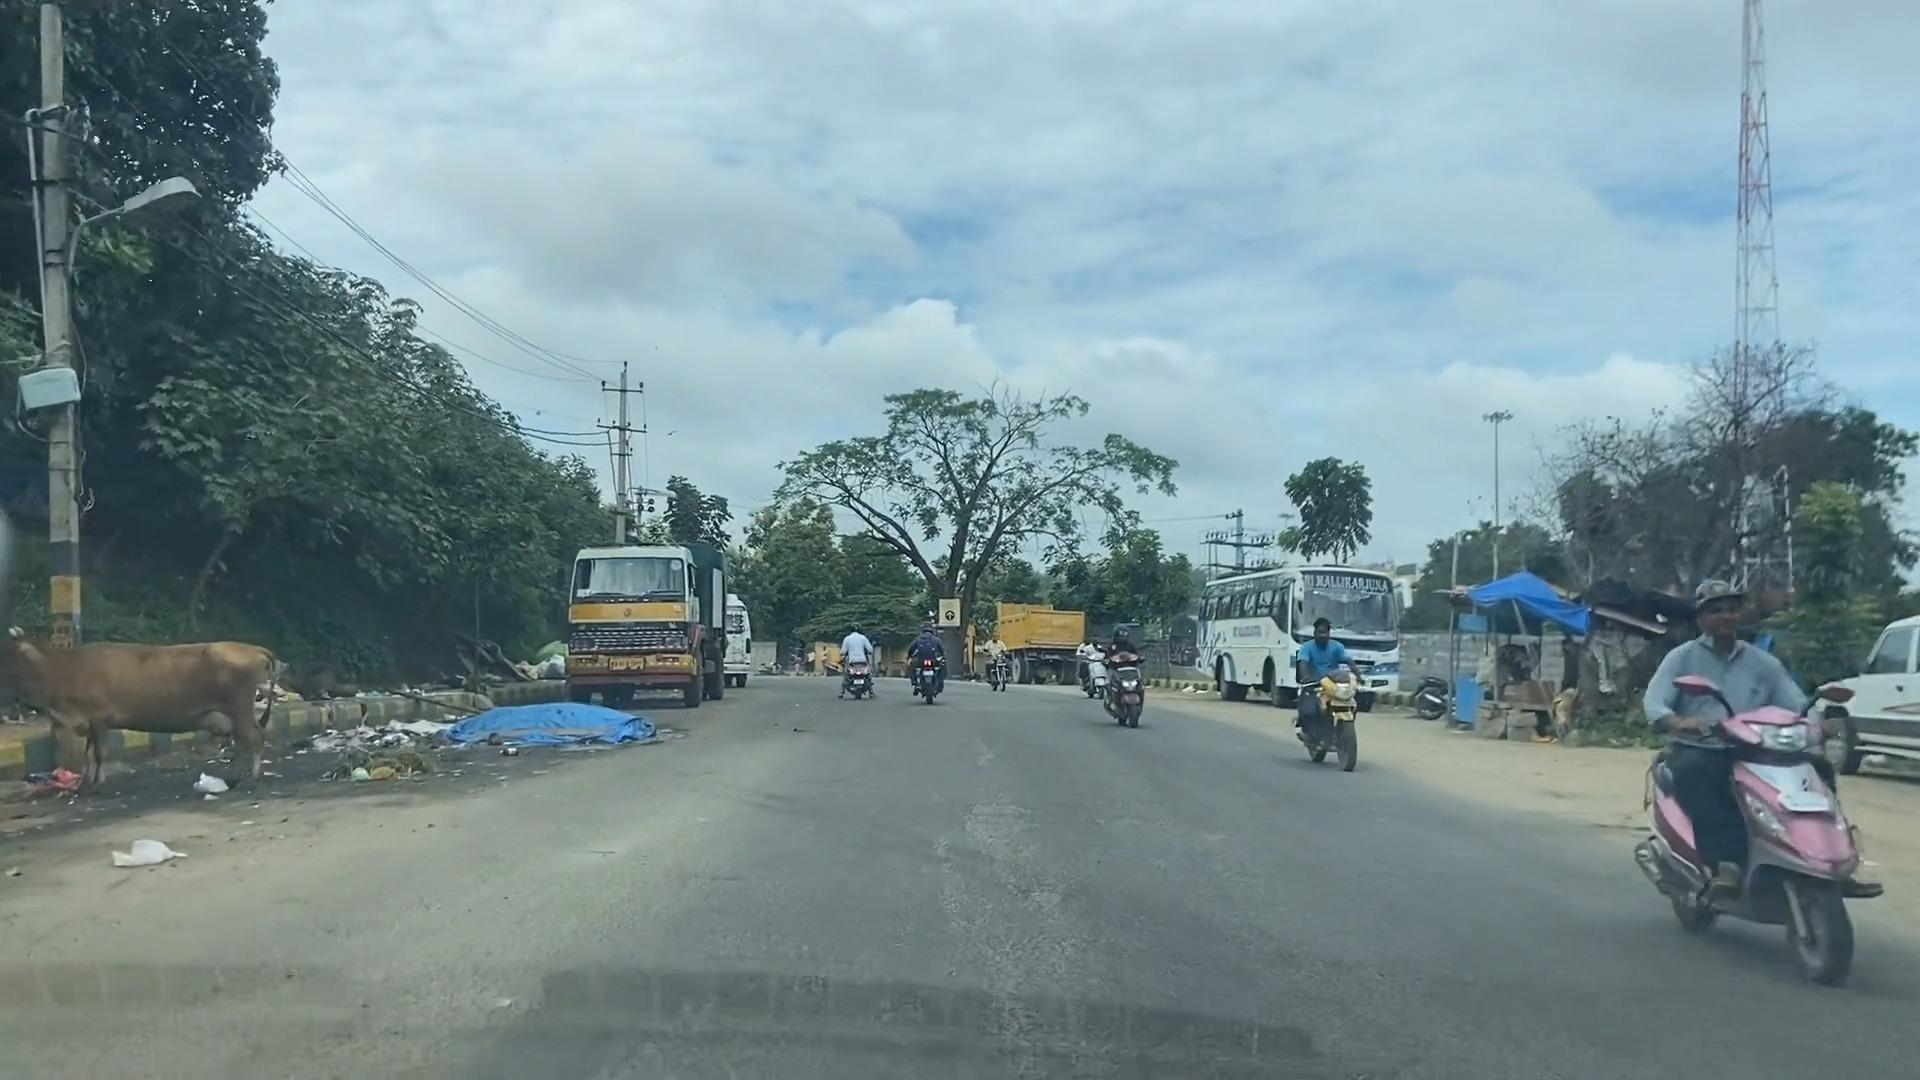HMV: (559, 522, 752, 733), (1180, 550, 1418, 717), (957, 587, 1098, 703)
LMV: (1640, 545, 1882, 978), (884, 549, 980, 773), (1265, 608, 1366, 781), (811, 601, 885, 736), (1087, 621, 1149, 732), (976, 611, 1026, 698)
